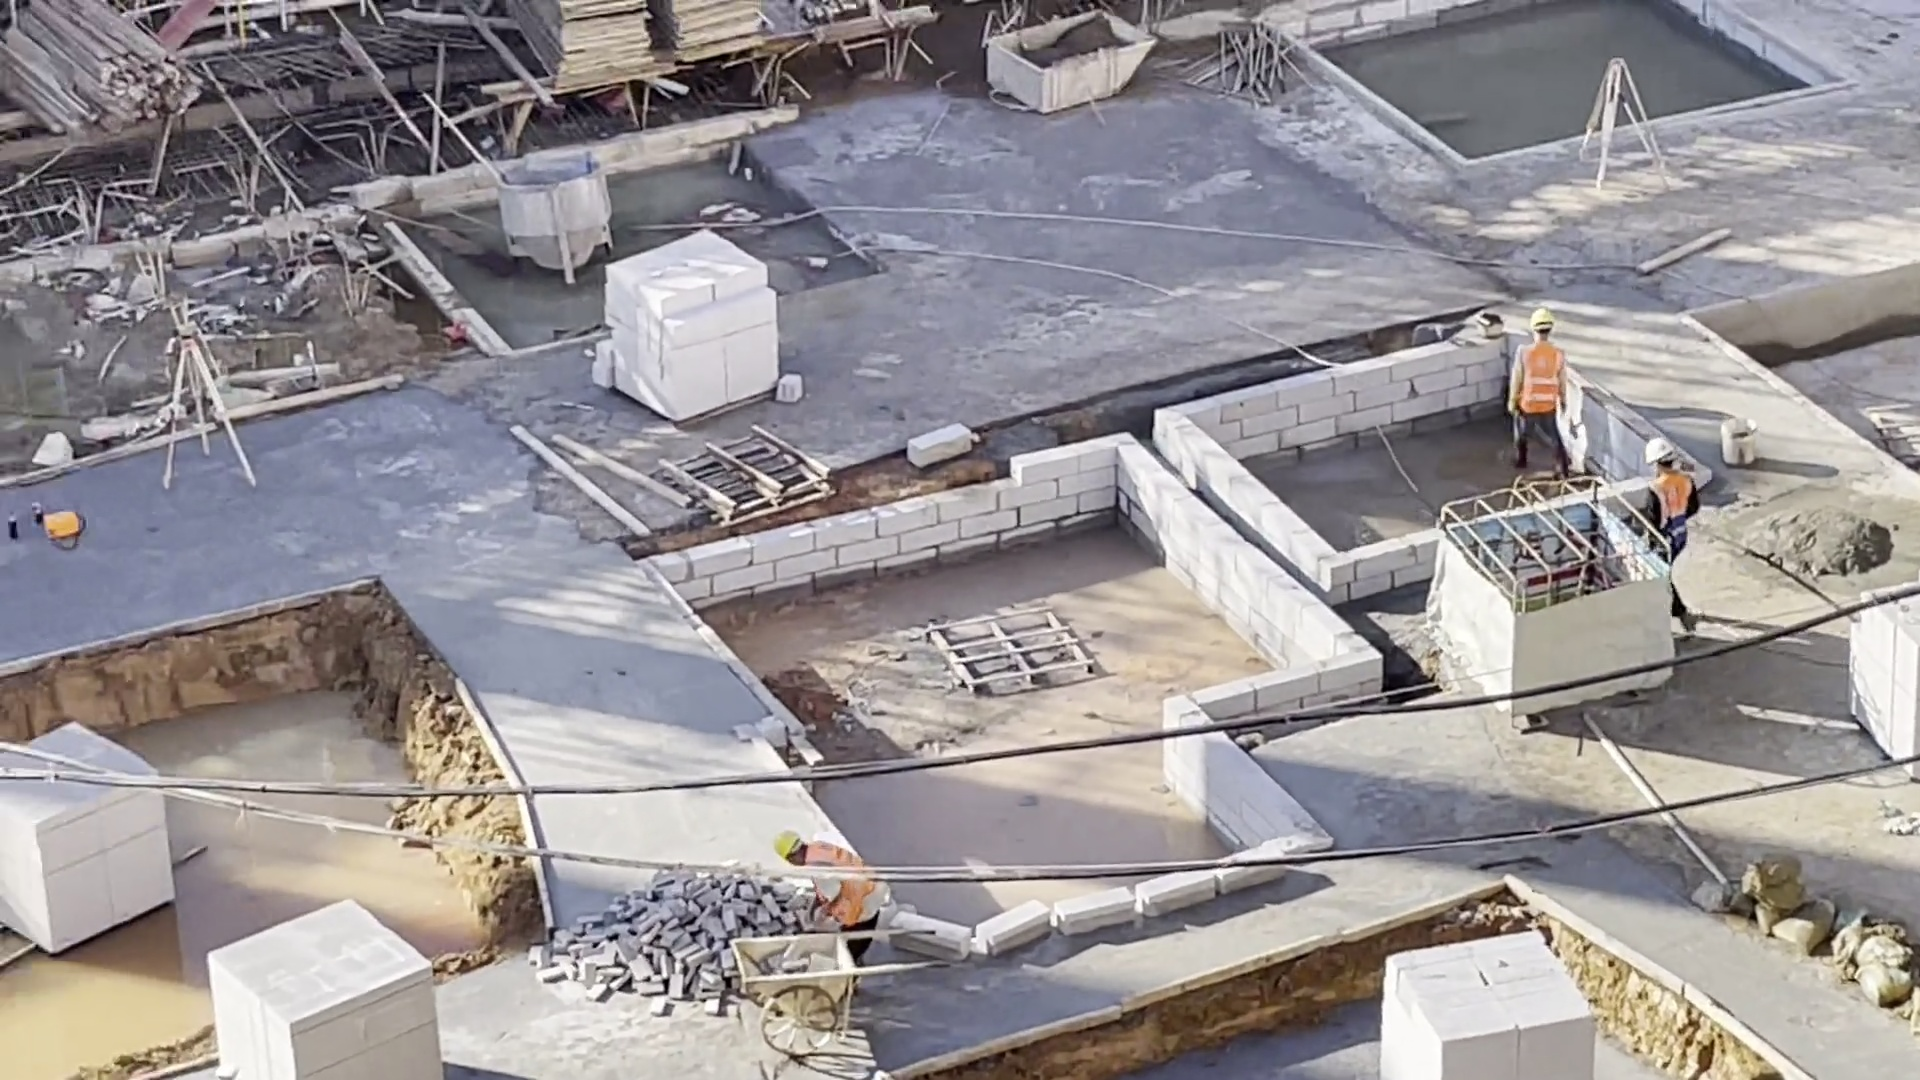board: (528, 1, 643, 114), (704, 1, 774, 54)
brick: (239, 901, 458, 1077), (1, 758, 189, 919), (559, 259, 746, 382), (1381, 949, 1555, 1080), (1866, 601, 1920, 710)
handcart: (721, 922, 873, 1046)
helmet: (779, 824, 813, 861), (1649, 432, 1678, 464), (1526, 322, 1551, 346)
person: (776, 828, 884, 963), (1639, 441, 1693, 613), (1516, 326, 1561, 466)
vest: (816, 852, 906, 916), (1644, 467, 1691, 547), (1504, 352, 1563, 407)
wood: (1, 3, 186, 129)
